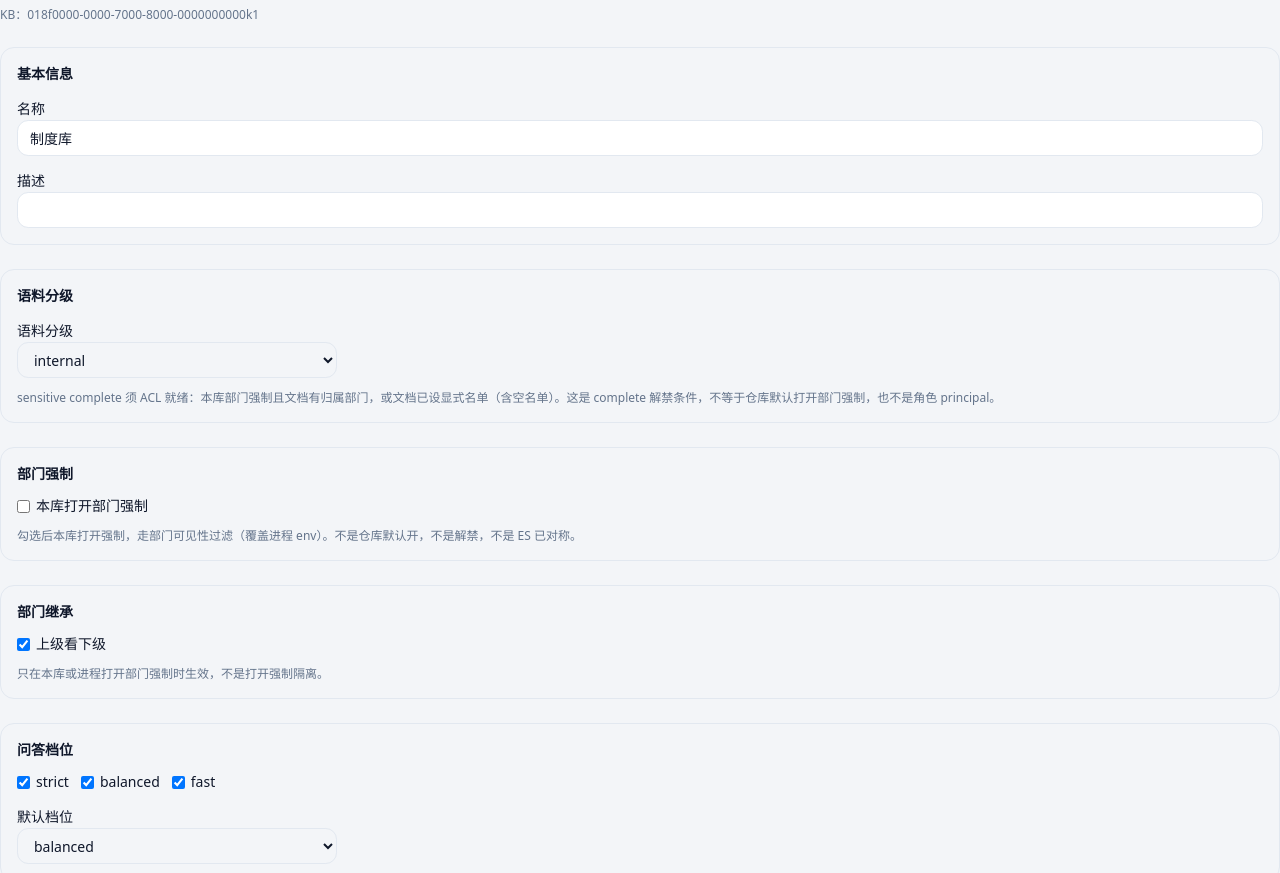
it: SettingsWorkspace › 有 kb.config.write：加载后可见当前 dataClass，保存 body 带 dataClass
The image size is (1280, 873).
Select "sensitive" in the dropdown labelled "语料分级" at (177, 360), box top-left (17, 342), bottom-right (337, 378)
(page scrolled)
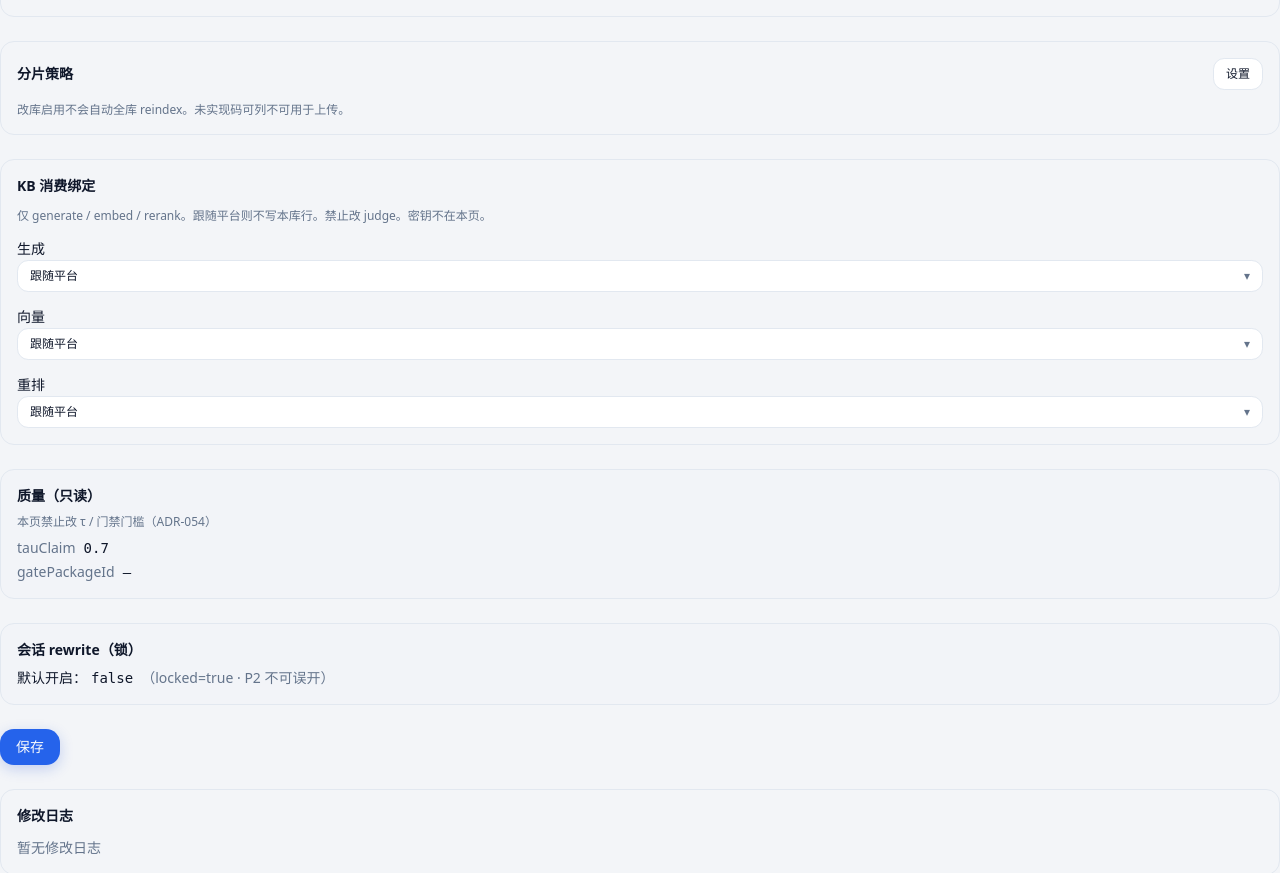
Click the button "保存" at (30, 747), box top-left (0, 729), bottom-right (60, 765)
(page scrolled)
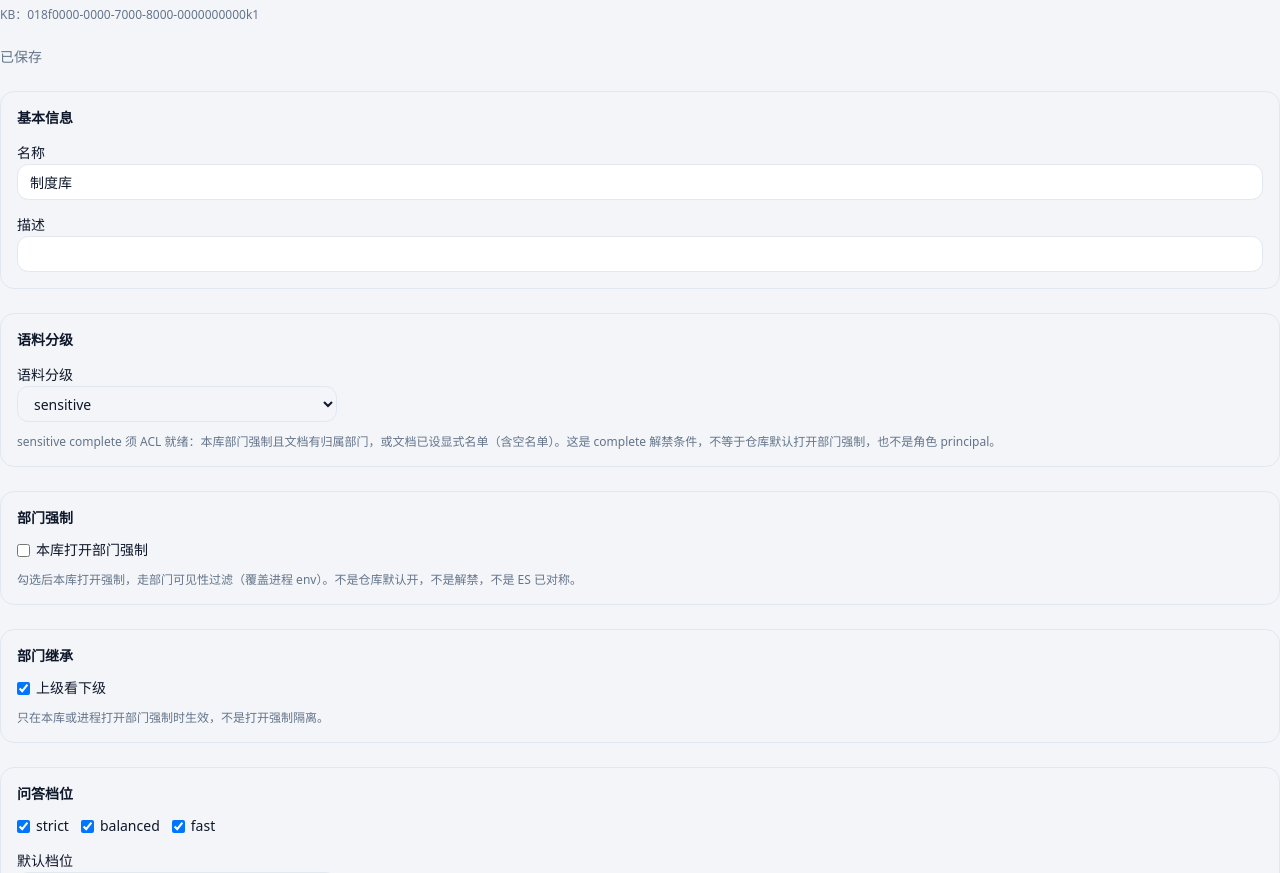
Result: the text "已保存" is shown at top-left (0, 47), bottom-right (42, 66)
